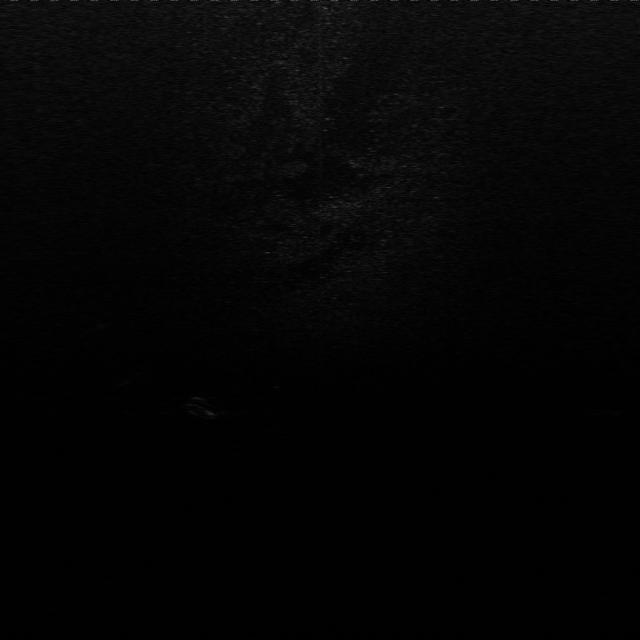tyre: (182, 393, 223, 425)
